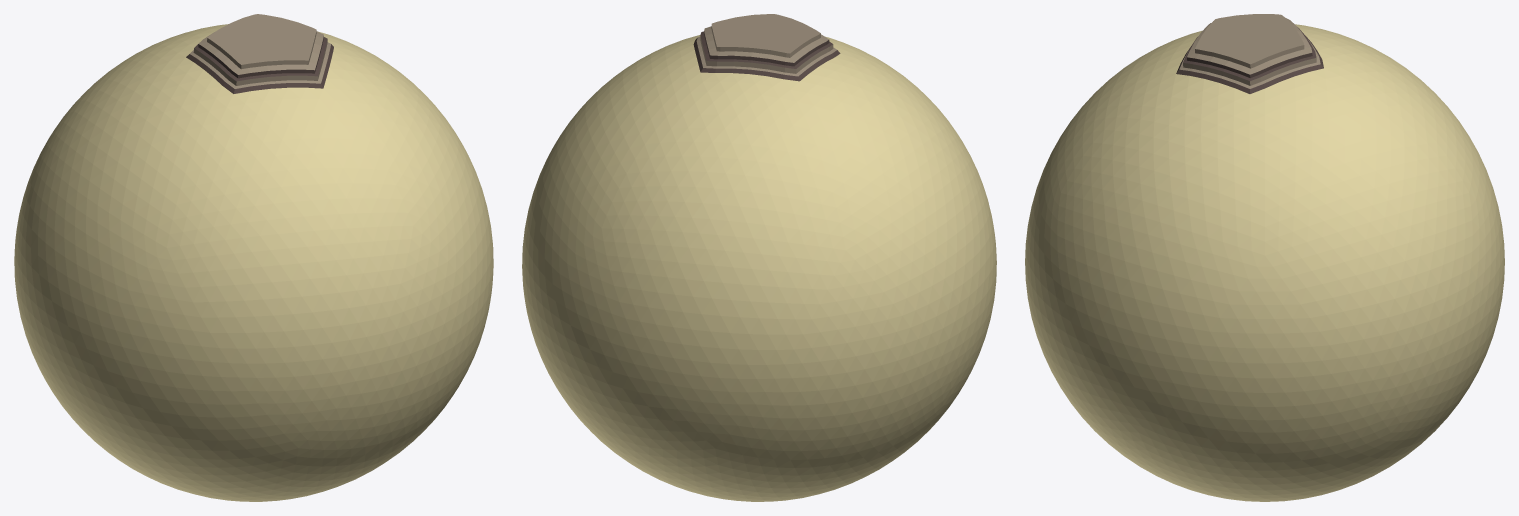
File: BirthPlanet.fbx
3 views of the same model, side by side, from view 1: azimuth 30°, elevation 25°; view 2: azimuth 150°, elevation 25°; view 3: azimuth 270°, elevation 25° (orthographic).
Parts seen in each view (by area): view 1: Icosphere; view 2: Icosphere; view 3: Icosphere.
Boxes of the visible parts, x1,y1,x2,y2 form: Icosphere: [14, 14, 493, 501]; Icosphere: [522, 14, 996, 501]; Icosphere: [1025, 14, 1504, 501].
Bounding box in the file's own units: 1000 × 1032 × 1000.
